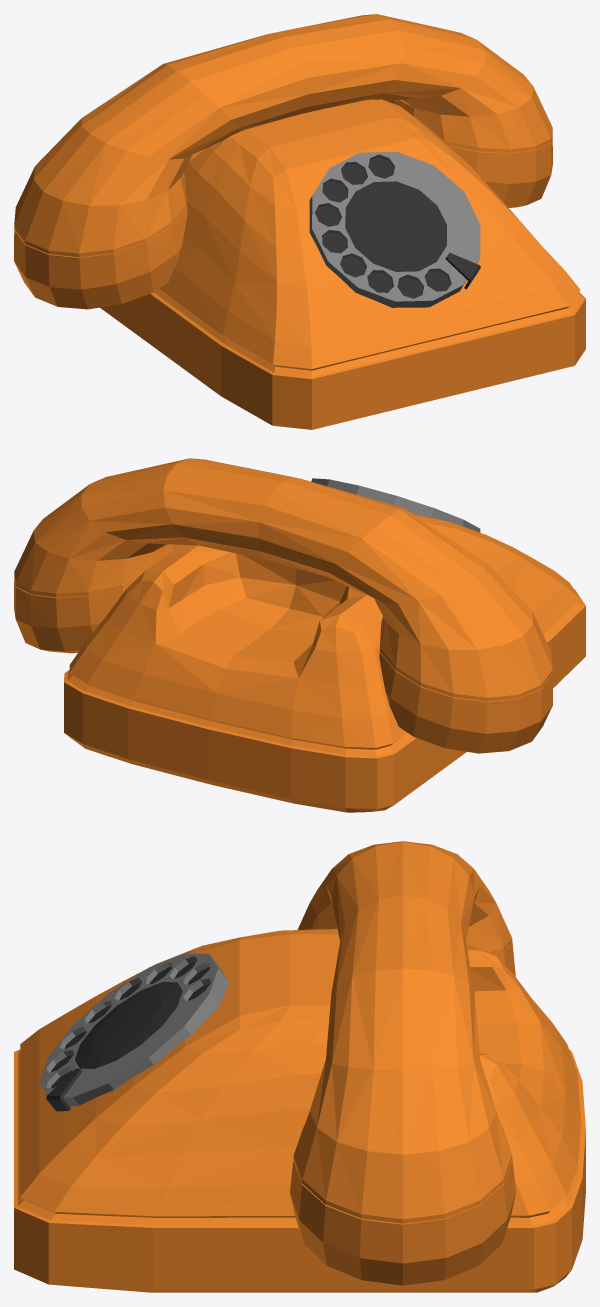
The model's file is telephone.glb.
3 renders of one model, top to bottom at view 1: azimuth 30°, elevation 25°; view 2: azimuth 150°, elevation 25°; view 3: azimuth 270°, elevation 25°, orthographic. The views are drawn at different scales.
Parts seen in each view (by area): view 1: Phone; view 2: Phone; view 3: Phone.
Part boxes in pixels (box(x1,y1,x2,y2)): Phone: box(14, 14, 585, 429); Phone: box(14, 458, 585, 812); Phone: box(14, 841, 585, 1292).
Size of the model in its own units: 0.2565 by 0.12 by 0.2025.
1 material, 1 textured.
